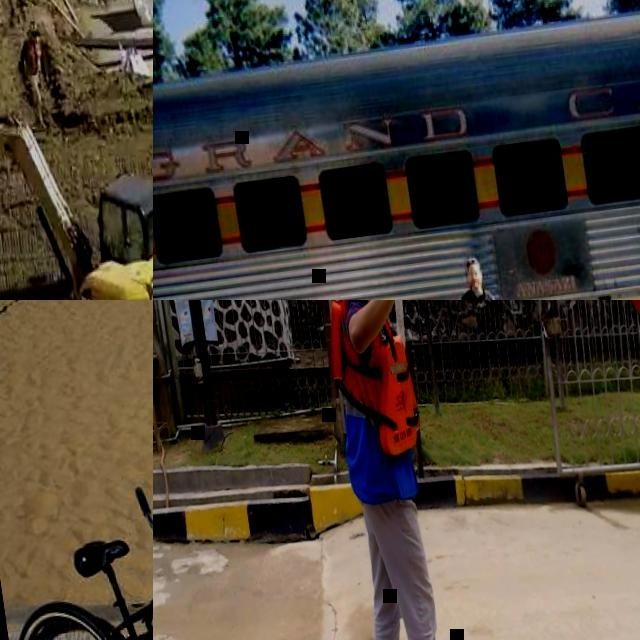NO-Hardhat: (466, 254, 482, 267)
NO-Mask: (470, 277, 481, 288)
Person: (301, 300, 484, 640), (15, 22, 53, 128), (449, 250, 520, 300)
Safety Vest: (320, 300, 425, 462)
machinery: (0, 48, 153, 300)
